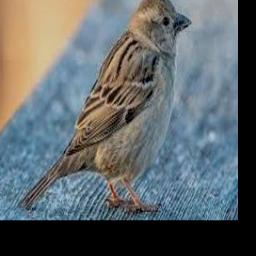Sparrow: (19, 0, 192, 212)
